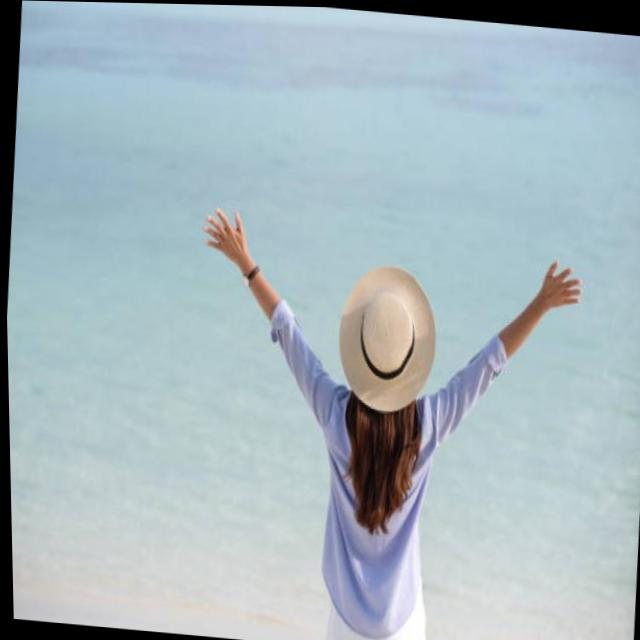no helmet: (328, 261, 440, 409)
